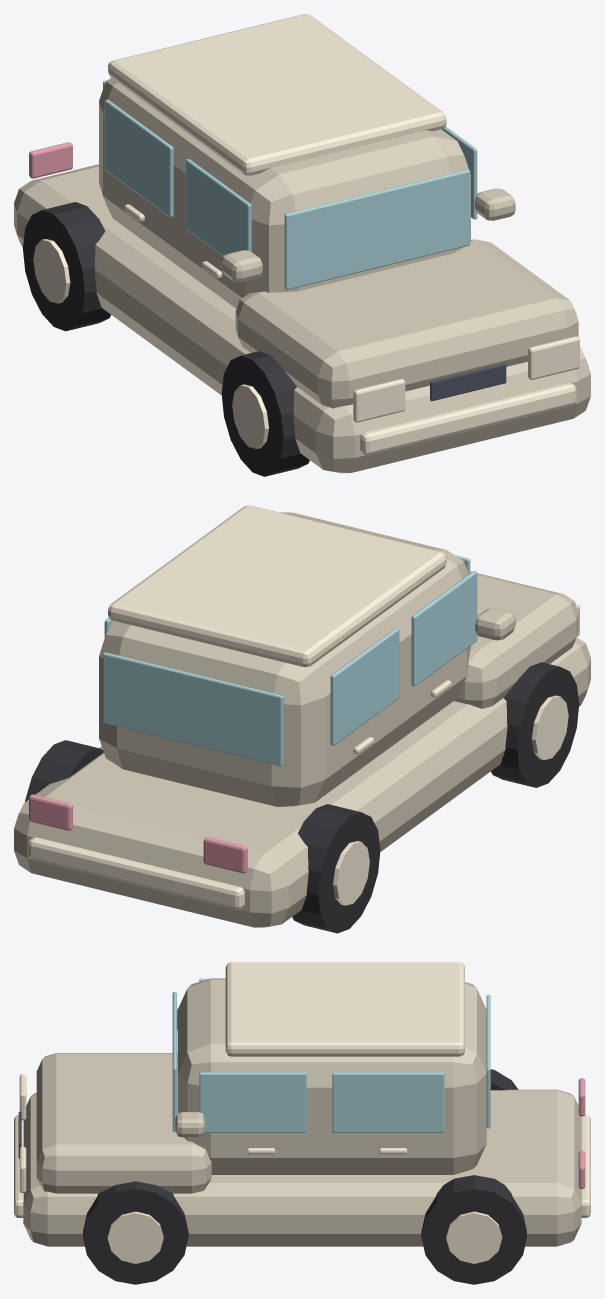
The model's file is car_cream.glb.
3 renders of one model, top to bottom at view 1: azimuth 30°, elevation 25°; view 2: azimuth 150°, elevation 25°; view 3: azimuth 270°, elevation 25°, orthographic. The views are drawn at different scales.
Visible parts, largest first — view 1: car_cream_Mesh; view 2: car_cream_Mesh; view 3: car_cream_Mesh.
Boxes of the visible parts, x1,y1,x2,y2 form: car_cream_Mesh: (14,14,590,476); car_cream_Mesh: (14,505,590,933); car_cream_Mesh: (14,962,590,1284).
Size of the model in its own units: 1.95 by 1.6 by 3.77.
